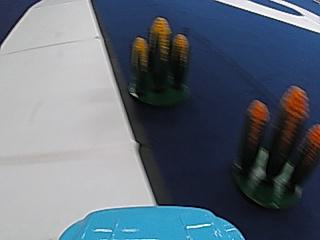corn: (228, 77, 317, 205), (125, 11, 194, 107)
